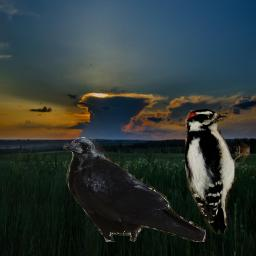Crow: (63, 137, 206, 242)
Woodpecker: (185, 109, 250, 234)
